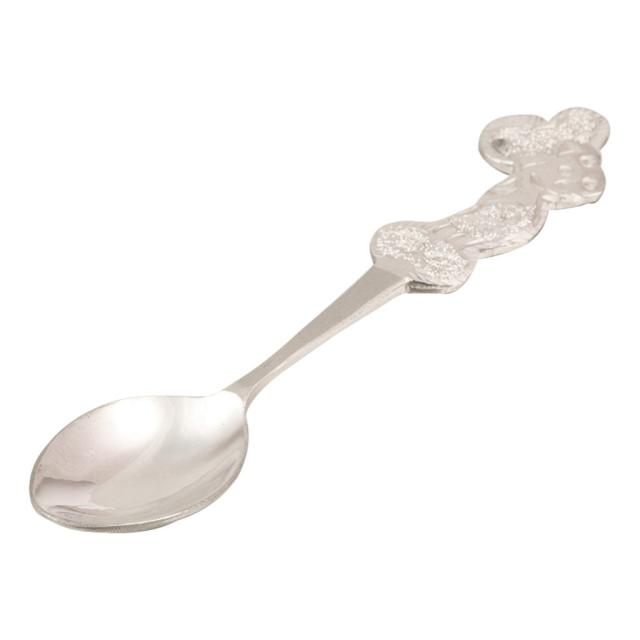spoon: (21, 94, 620, 545)
